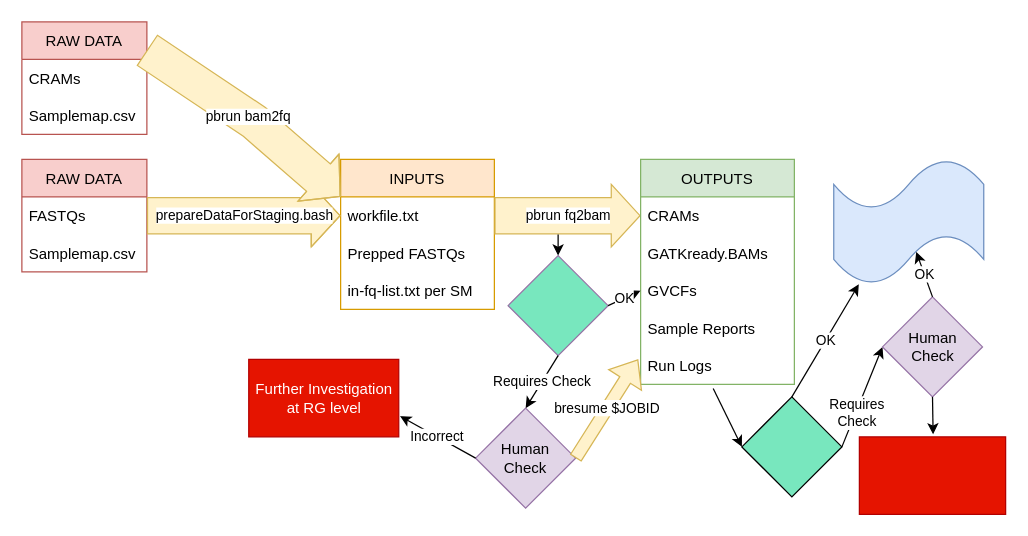
The diagram is 1028 pixels wide and 536 high, and some of its shapes have lost their labels. Here are the shapes that lost their labels. From the top down, the centre of each, then its label:
(908,221): Sample COMPLETE
(557,305): Per RG Check
(791,446): Per Sample Check
(932,475): Further Investigation at SAMPLE level
